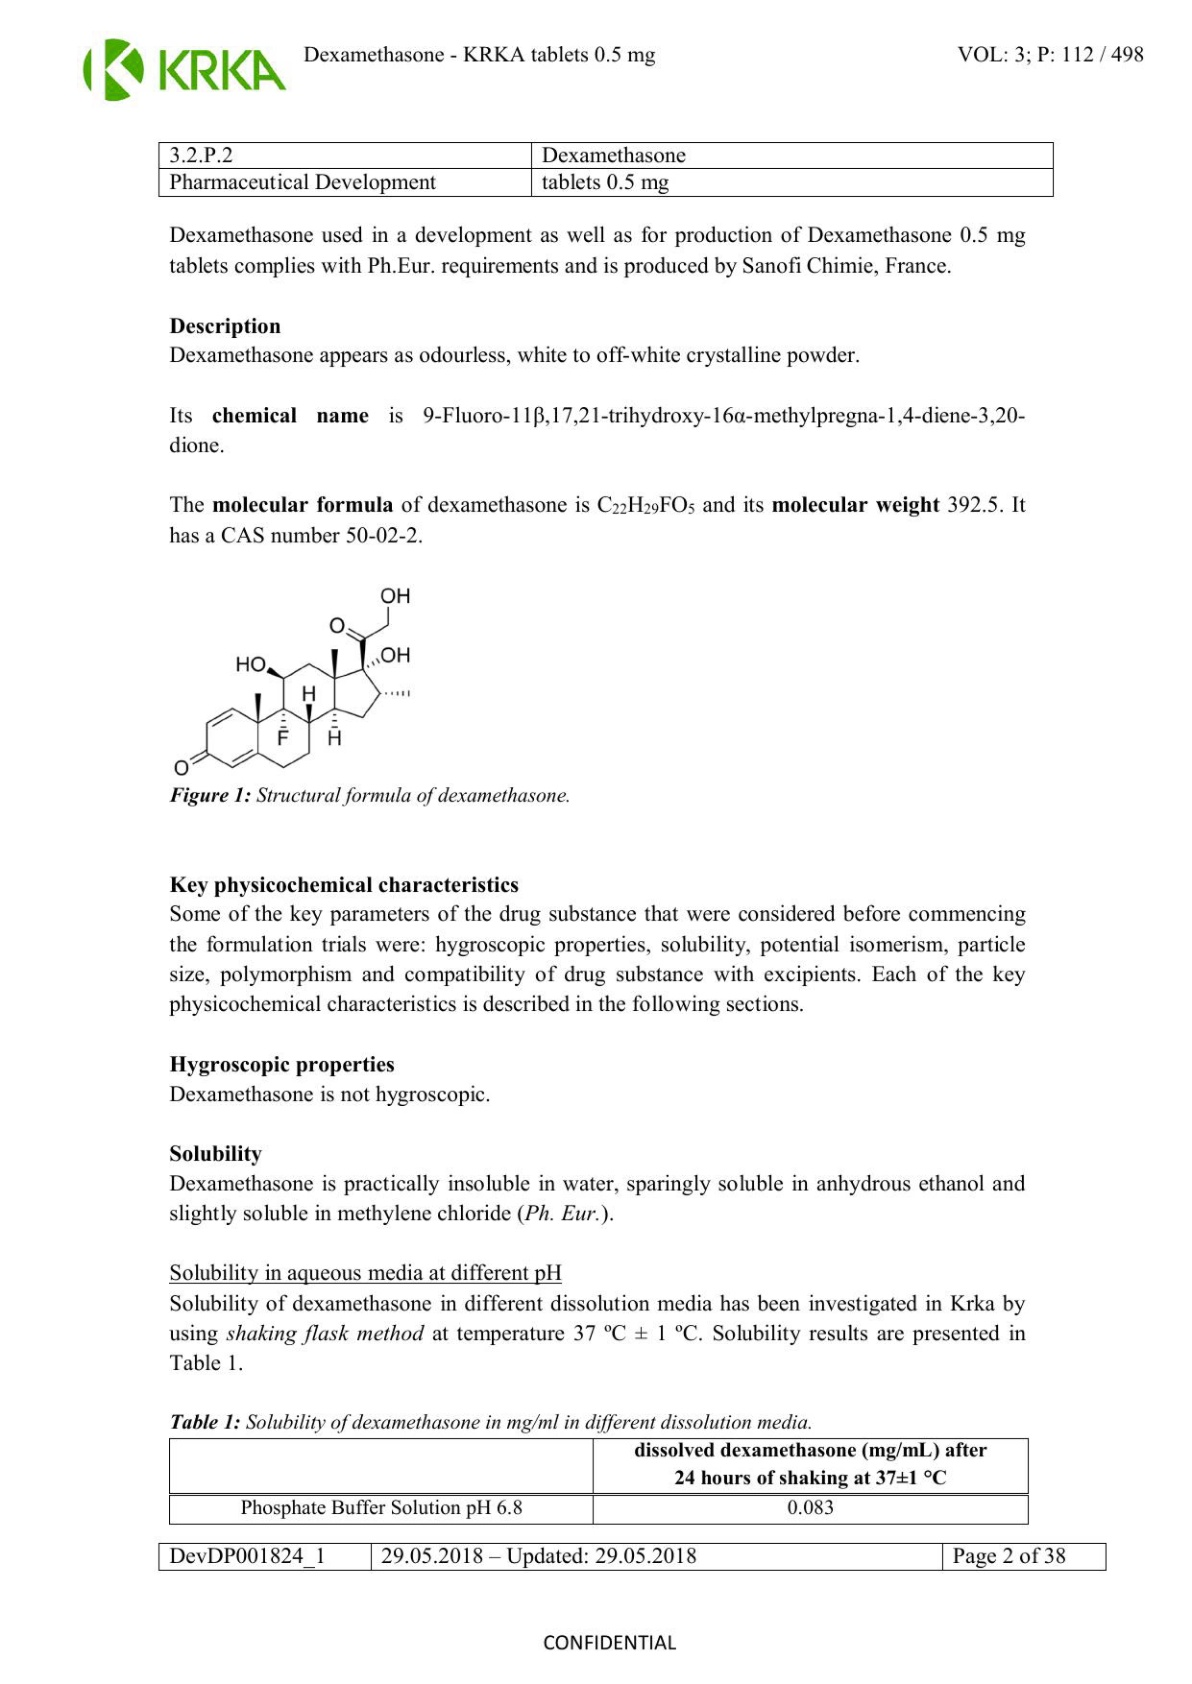full_lined: (166, 1436, 1029, 1525), (157, 142, 1055, 199), (157, 1542, 1107, 1571)
